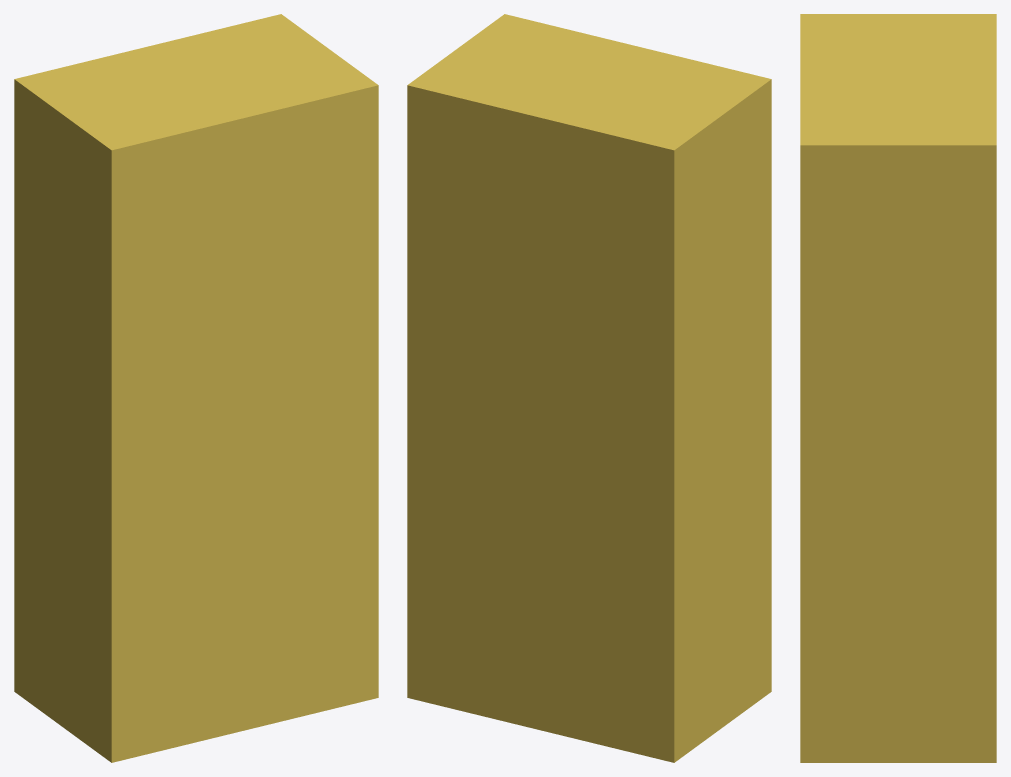
The model's file is pier_piece_t_unbroken.DAE.
The picture shows the model from 3 angles, left to right: view 1: azimuth 30°, elevation 25°; view 2: azimuth 150°, elevation 25°; view 3: azimuth 270°, elevation 25°; orthographic projection.
Parts seen in each view (by area): view 1: bounds; view 2: bounds; view 3: bounds.
Boxes of the visible parts, left/top/right/bottom form: bounds: left=14, top=14, right=378, bottom=762; bounds: left=407, top=14, right=771, bottom=762; bounds: left=800, top=14, right=996, bottom=762.
Size of the model in its own units: 7.36 by 4.65 by 16.15.
